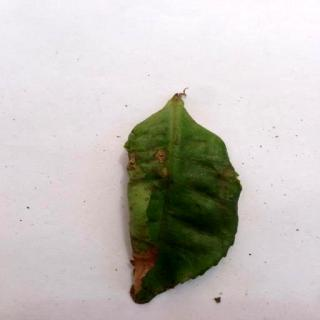Algal Leaf: (127, 91, 242, 306)
